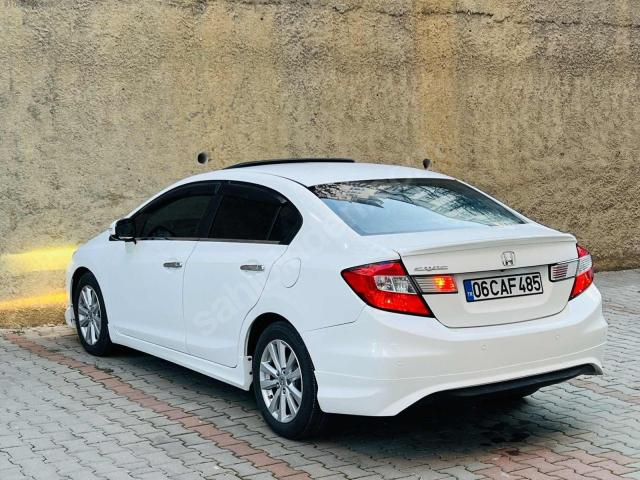plaka: (463, 272, 543, 302)
